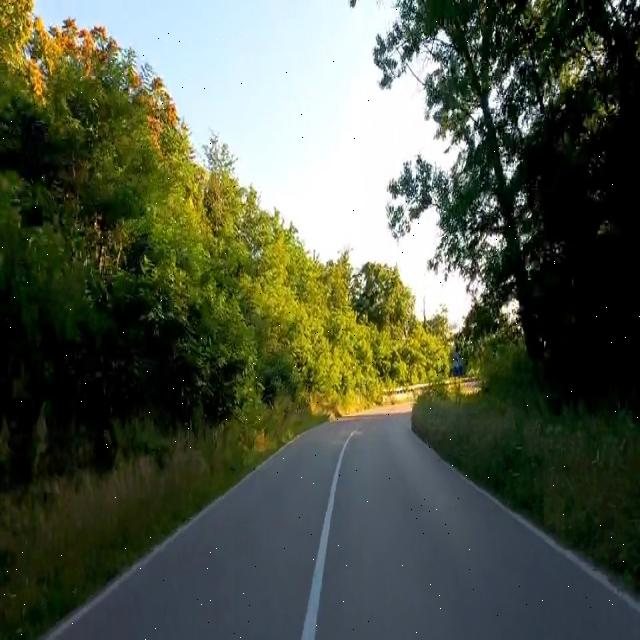lane: (301, 430, 355, 639)
road: (51, 414, 639, 638)
